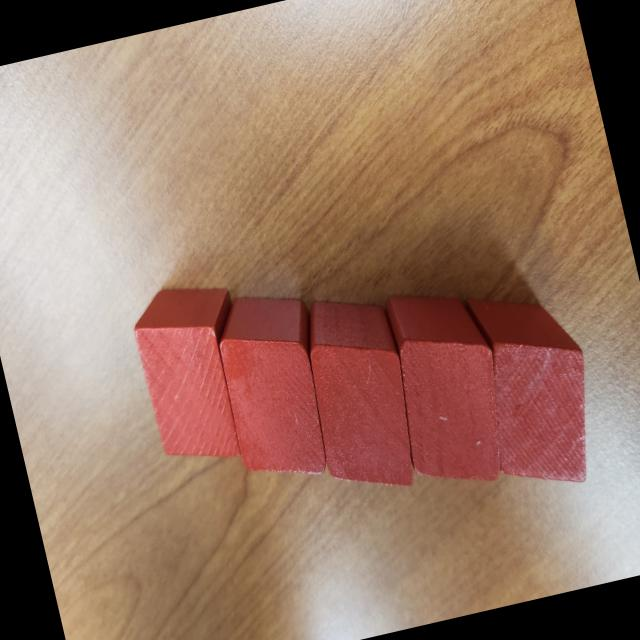red: (460, 280, 611, 501), (374, 278, 520, 498), (290, 284, 430, 506), (206, 281, 347, 495), (126, 274, 266, 473)
